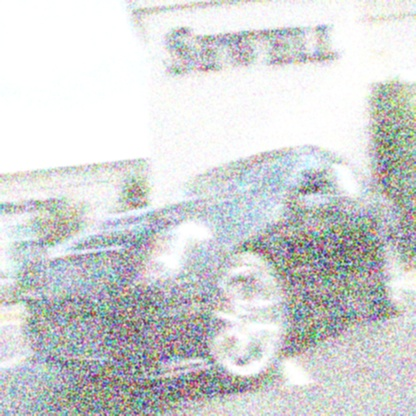Vehicle: (20, 146, 408, 398)
